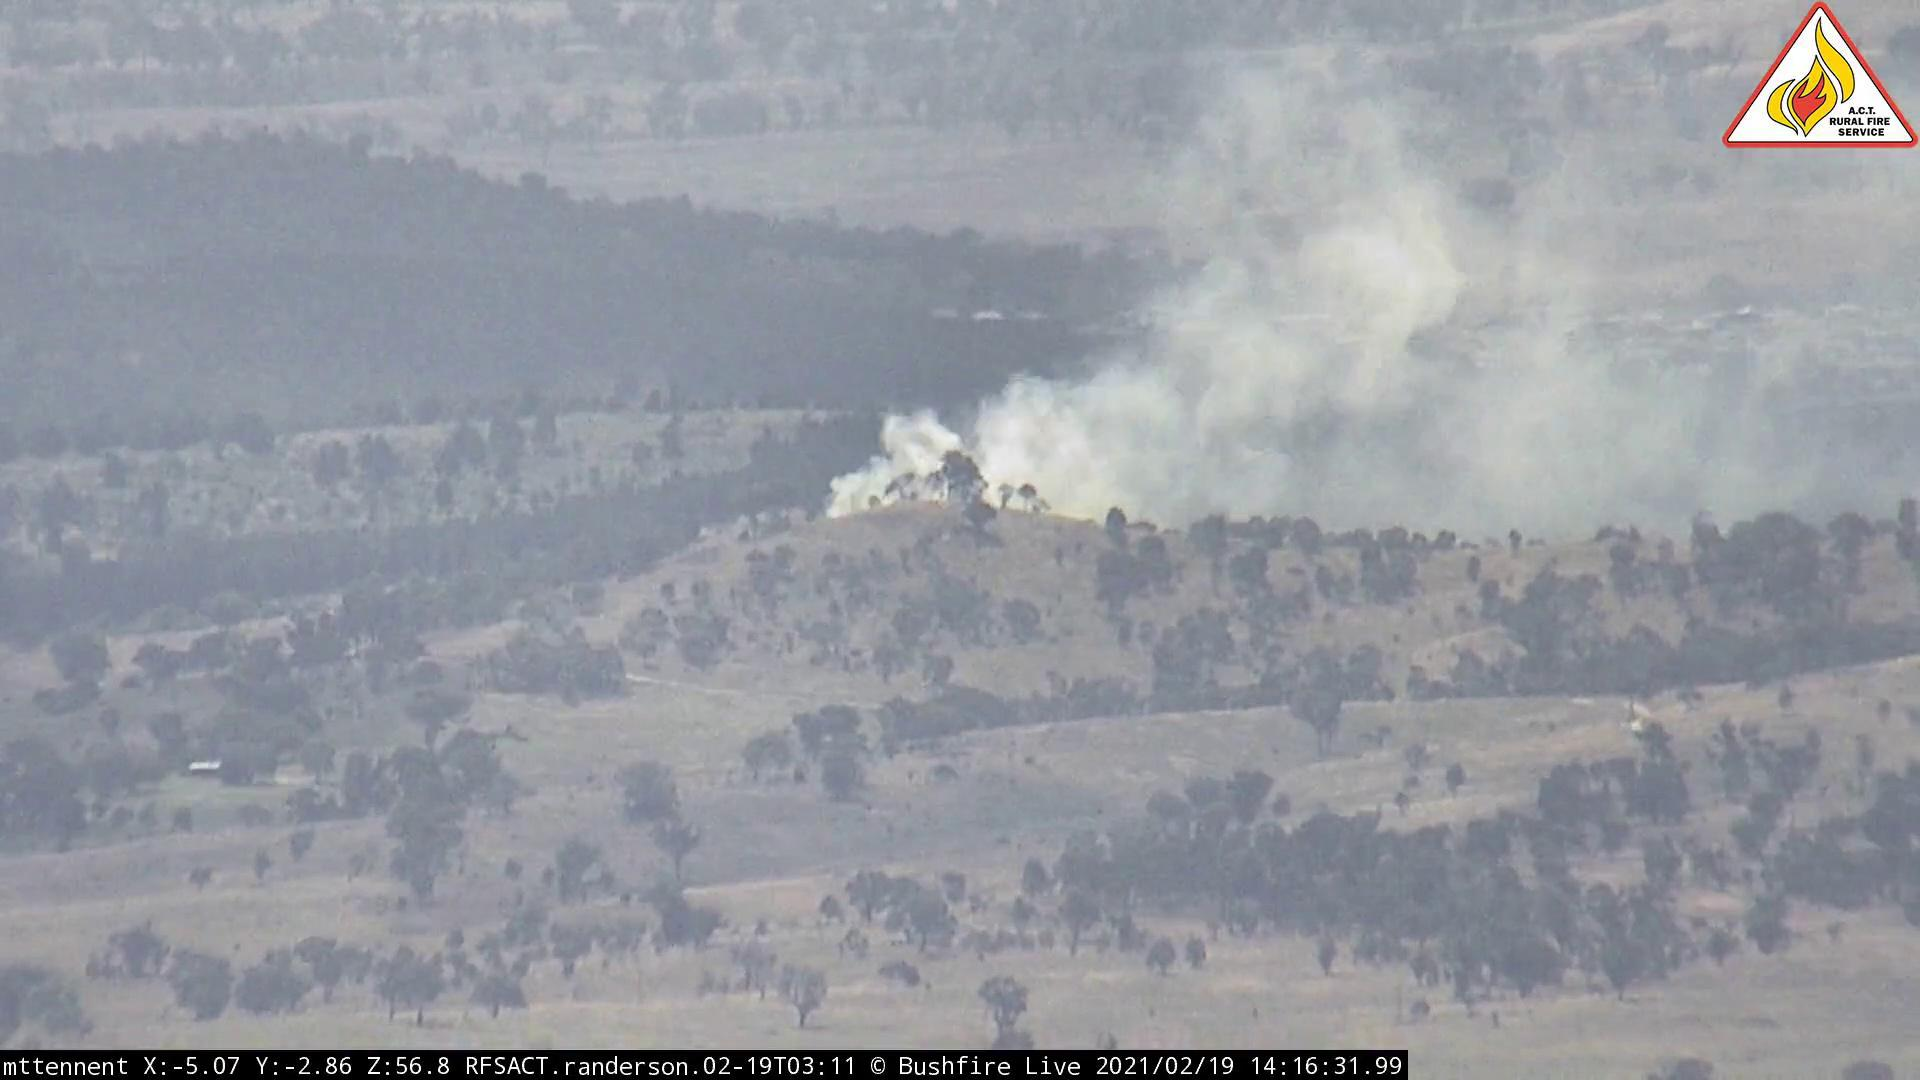Smoke: (827, 127, 1665, 531)
